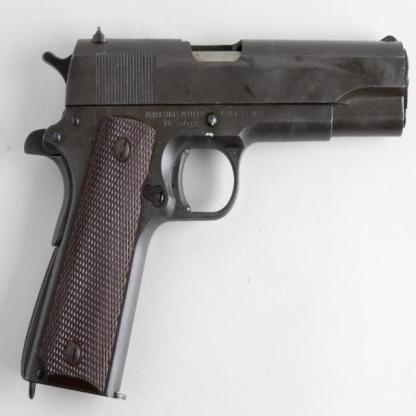weapon: (20, 26, 411, 400)
